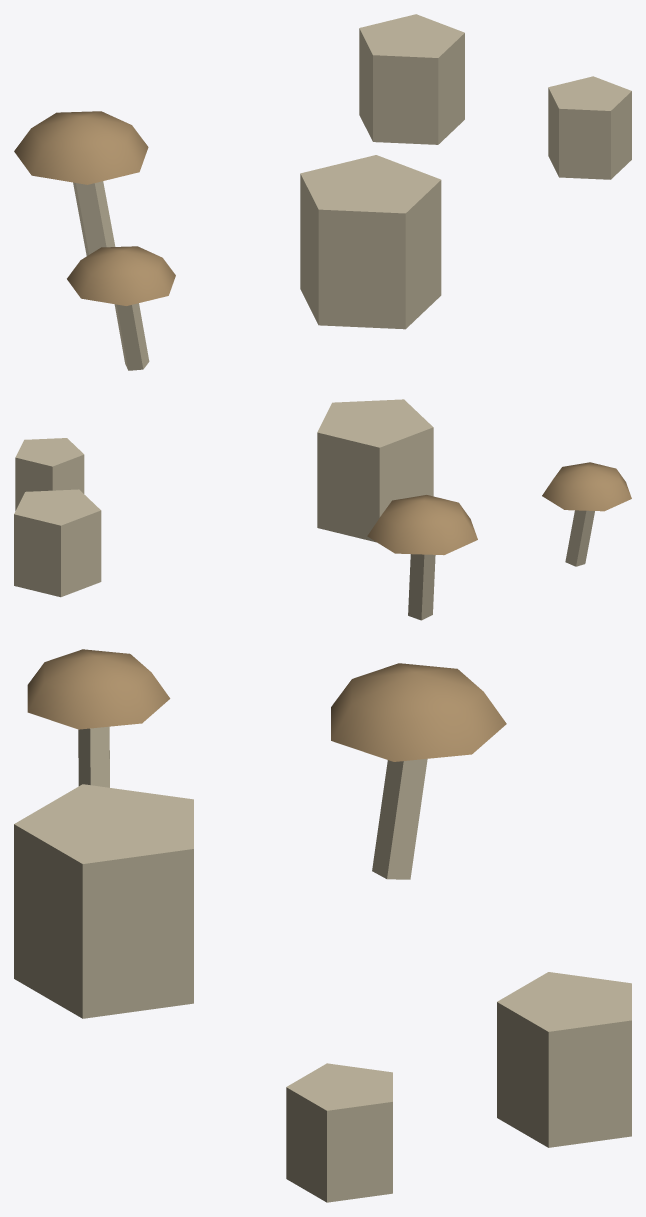
File: MushroomsPicked.fbx
3 renders of one model, top to bottom at view 1: azimuth 30°, elevation 25°; view 2: azimuth 150°, elevation 25°; view 3: azimuth 270°, elevation 25°, orthographic. The views are drawn at different scales.
Visible parts, largest first — view 1: MushroomsPicked; view 2: MushroomsPicked; view 3: MushroomsPicked.
Boxes of the visible parts, x1=… form: MushroomsPicked: x1=14, y1=14, x2=631, y2=370; MushroomsPicked: x1=14, y1=399, x2=631, y2=620; MushroomsPicked: x1=14, y1=649, x2=631, y2=1202.
Bounding box in the file's own units: 0.5586 × 0.1221 × 0.3476.
